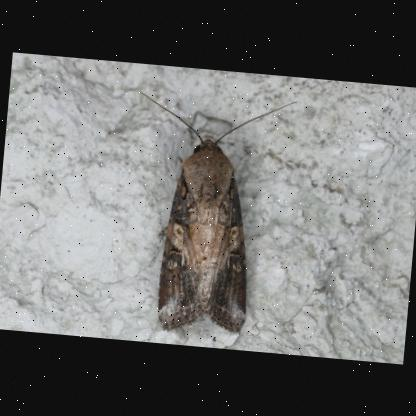Fall Armyworm Moth: (117, 85, 300, 343)
